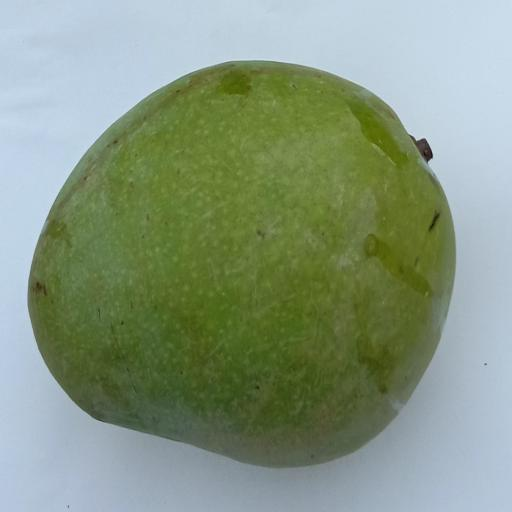mango-unripe: (7, 30, 493, 472)
